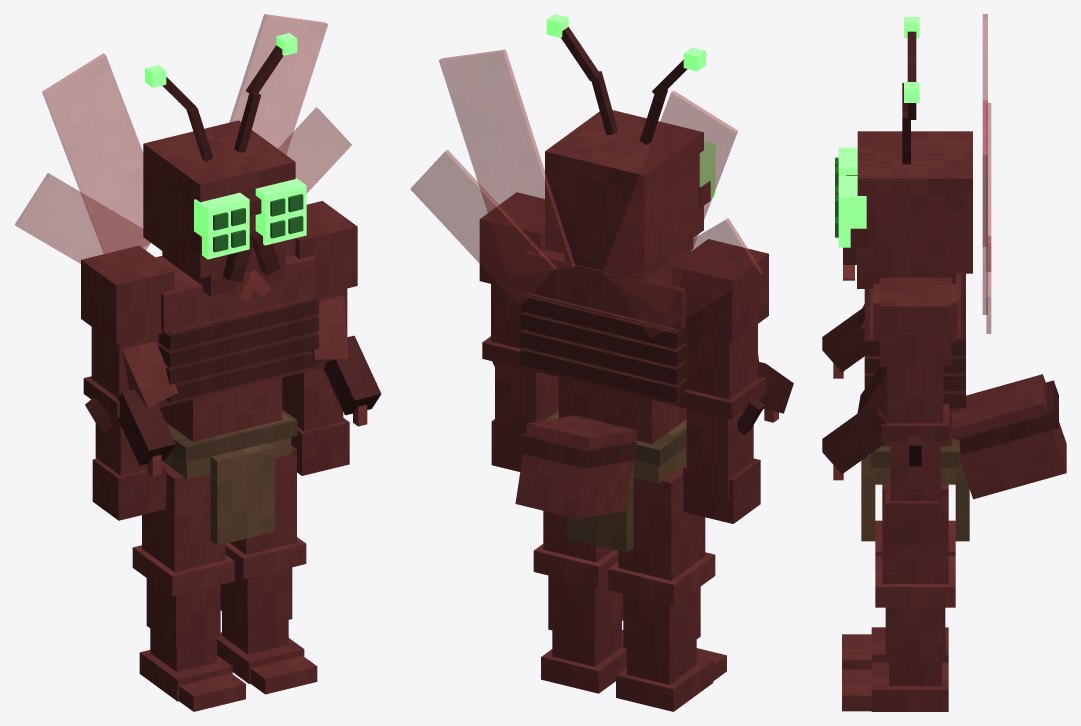
Rendered from insectoid_base.glb.
3 renders of one model, left to right at view 1: azimuth 30°, elevation 25°; view 2: azimuth 150°, elevation 25°; view 3: azimuth 270°, elevation 25°, orthographic. The views are drawn at different scales.
Visible parts, largest first — view 1: Torso, Head, LegR, ArmR, LegL, ArmL; view 2: Torso, Head, ArmR, LegR, ArmL, LegL; view 3: Torso, Head, ArmL, LegL, LegR.
Boxes of the visible parts, x1,y1,x2,y2 form: Torso: (15, 14, 381, 545); Head: (143, 33, 306, 300); LegR: (132, 461, 245, 711); ArmR: (81, 245, 174, 520); LegL: (217, 445, 317, 694); ArmL: (282, 201, 357, 475); Torso: (410, 49, 793, 552); Head: (545, 14, 715, 280); ArmR: (671, 239, 768, 523); LegR: (608, 463, 726, 711); ArmL: (479, 192, 558, 471); LegL: (533, 511, 626, 693); Torso: (822, 14, 1066, 541); Head: (835, 17, 972, 288); ArmL: (879, 277, 951, 546); LegL: (842, 484, 955, 711); LegR: (842, 520, 955, 669).
Bounding box in the file's own units: 1.12 × 1.98 × 0.699.
22 materials, 22 textured.
